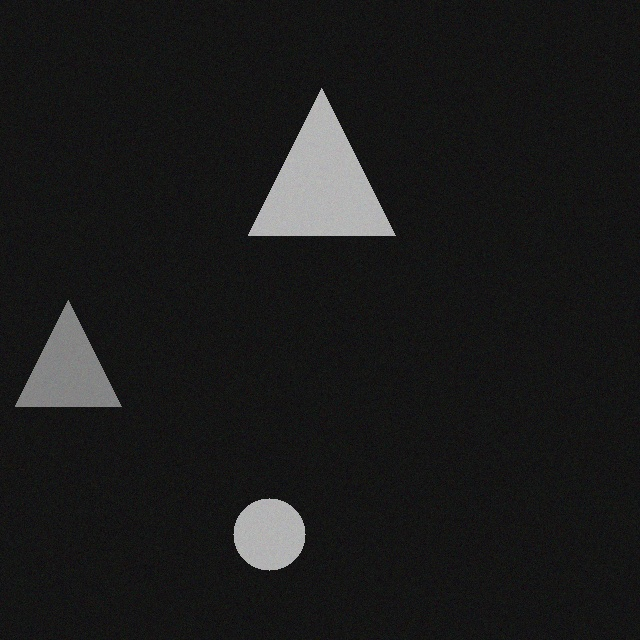circle: (245, 506, 317, 578)
triangle: (260, 96, 407, 243), (27, 308, 133, 414)
